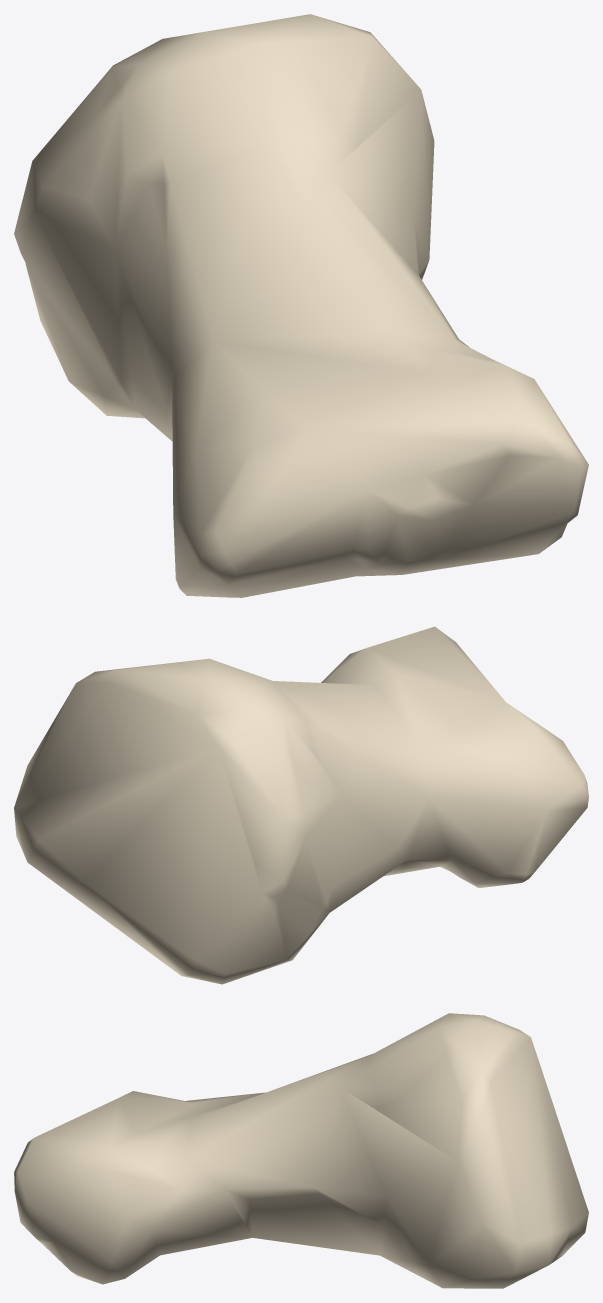
File: middle-phalanx-of-second-finger-of-foot-r.glb
3 renders of one model, top to bottom at view 1: azimuth 30°, elevation 25°; view 2: azimuth 150°, elevation 25°; view 3: azimuth 270°, elevation 25°, orthographic. The views are drawn at different scales.
Parts seen in each view (by area): view 1: Middle phalanx of second finger of foot.r; view 2: Middle phalanx of second finger of foot.r; view 3: Middle phalanx of second finger of foot.r.
Boxes of the visible parts, <box> form: Middle phalanx of second finger of foot.r: <box>14,14,588,597</box>; Middle phalanx of second finger of foot.r: <box>14,626,588,984</box>; Middle phalanx of second finger of foot.r: <box>14,1013,588,1288</box>.
Bounding box in the file's own units: 0.0123 × 0.00908 × 0.0176.
